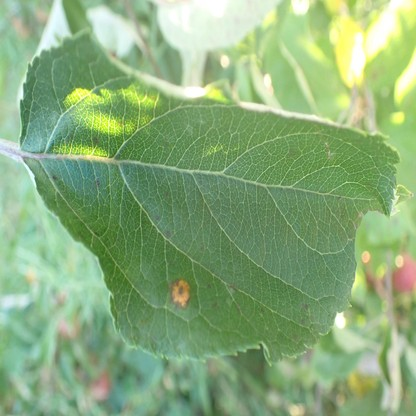rust: (170, 276, 189, 306)
